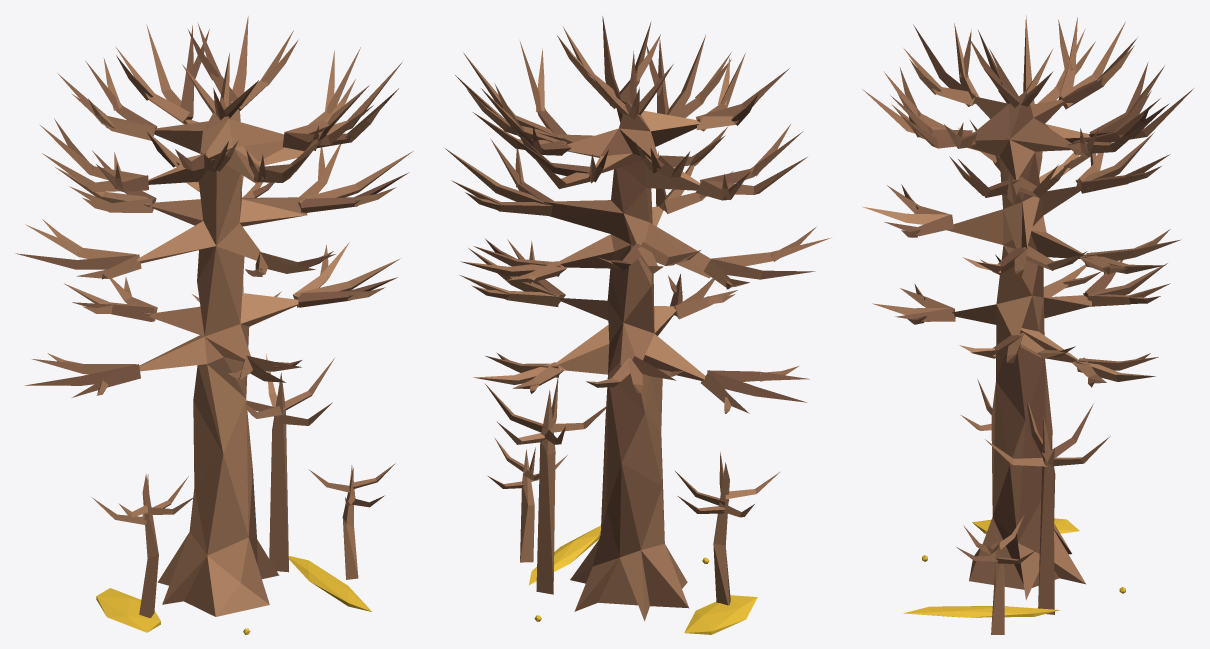
The model's file is giant_araucaria_bare_far.glb.
3 renders of one model, left to right at view 1: azimuth 30°, elevation 25°; view 2: azimuth 150°, elevation 25°; view 3: azimuth 270°, elevation 25°, orthographic. The views are drawn at different scales.
Parts seen in each view (by area): view 1: giant_araucaria_bare_far; view 2: giant_araucaria_bare_far; view 3: giant_araucaria_bare_far.
Part boxes in pixels (x1,y1,x2,y2): giant_araucaria_bare_far: [15, 16, 413, 634]; giant_araucaria_bare_far: [445, 16, 831, 634]; giant_araucaria_bare_far: [862, 15, 1193, 634].
Size of the model in its own units: 26.47 by 34.66 by 20.24.
